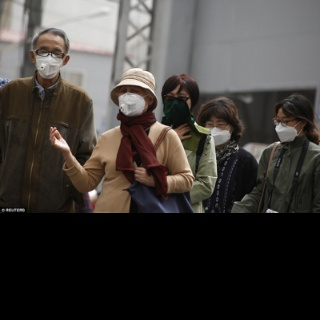with_mask: (32, 44, 65, 79), (119, 86, 148, 116), (204, 116, 232, 147), (162, 91, 192, 119), (273, 114, 302, 142)
